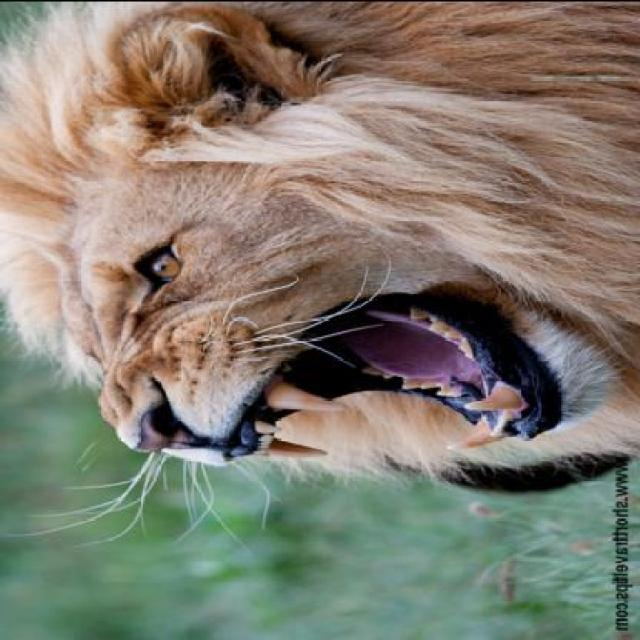Lion: (17, 8, 638, 524)
